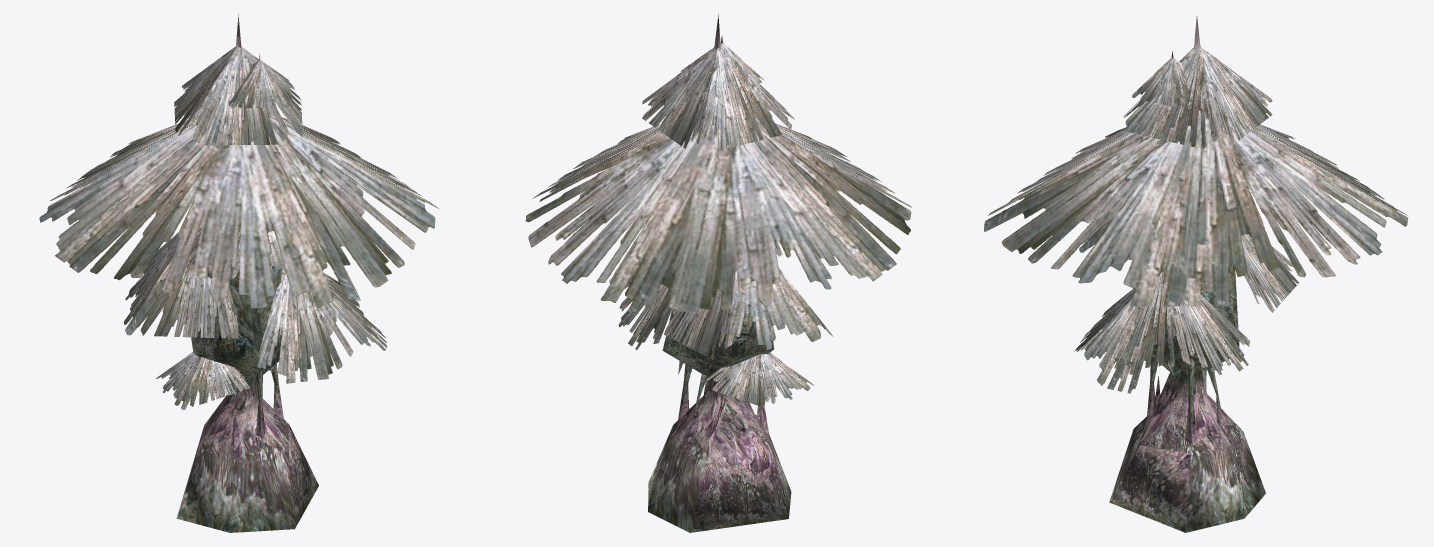
The model's file is rock_crystl_tree_sm_l3.fbx.
The picture shows the model from 3 angles, left to right: view 1: azimuth 30°, elevation 25°; view 2: azimuth 150°, elevation 25°; view 3: azimuth 270°, elevation 25°; orthographic projection.
Visible parts, largest first — view 1: mesh_node; view 2: mesh_node; view 3: mesh_node.
Part boxes in pixels (box(x1,y1,x2,y2)): mesh_node: box(39, 14, 438, 532); mesh_node: box(525, 14, 911, 532); mesh_node: box(984, 16, 1408, 532).
Size of the model in its own units: 13.9 by 19.16 by 16.05.
